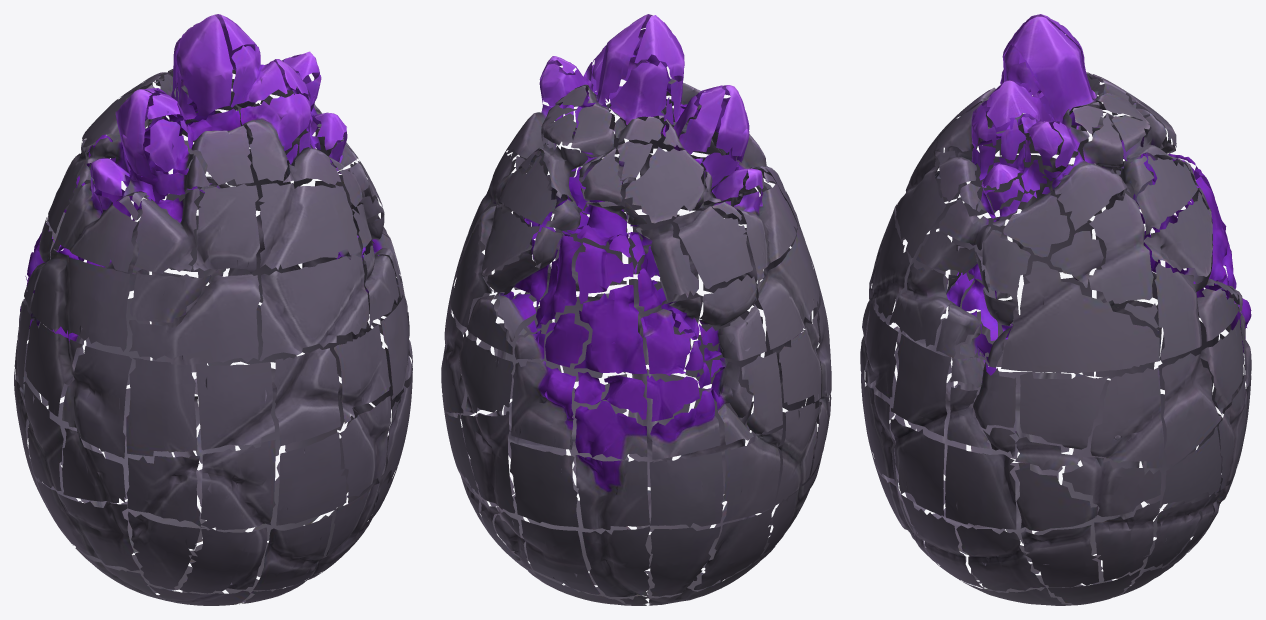
The model's file is oeuf.glb.
3 renders of one model, left to right at view 1: azimuth 30°, elevation 25°; view 2: azimuth 150°, elevation 25°; view 3: azimuth 270°, elevation 25°, orthographic. The views are drawn at different scales.
Visible parts, largest first — view 1: mesh_node; view 2: mesh_node; view 3: mesh_node.
Part boxes in pixels (x1,y1,x2,y2): mesh_node: (14, 14, 412, 605); mesh_node: (441, 14, 831, 605); mesh_node: (860, 14, 1251, 605).
Bounding box in the file's own units: 1.23 × 1.9 × 1.22.
Materials: 1 (1 with a texture image).
